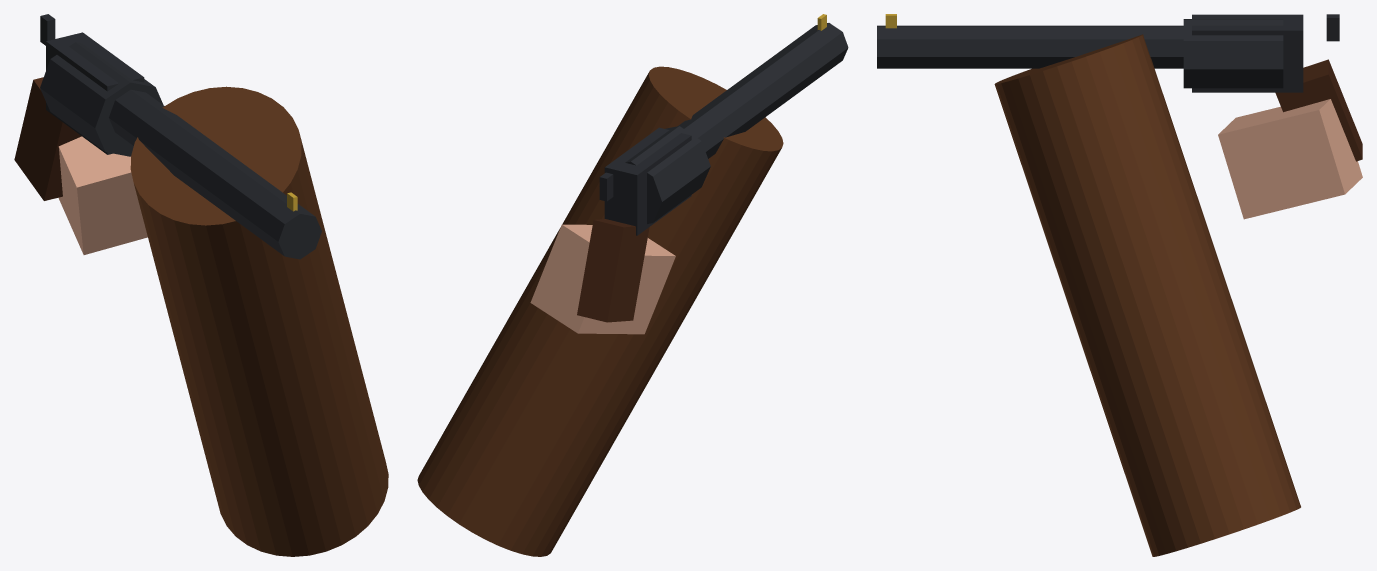
The model's file is fps_revolver.obj.
3 views of the same model, side by side, from view 1: azimuth 30°, elevation 25°; view 2: azimuth 150°, elevation 25°; view 3: azimuth 270°, elevation 25° (orthographic). The views are drawn at different scales.
Visible parts, largest first — view 1: Cylinder, Cylinder.002, Cube, Cylinder.001, Cube.001, Cube.002; view 2: Cylinder, Cylinder.002, Cube, Cube.001, Cylinder.001, Cube.002; view 3: Cylinder, Cube, Cylinder.002, Cylinder.001, Cube.002, Cube.001.
Part boxes in pixels (x1,y1,x2,y2): Cylinder: (130, 86, 388, 556); Cylinder.002: (109, 89, 321, 259); Cube: (58, 136, 147, 254); Cylinder.001: (40, 42, 163, 156); Cube.001: (14, 77, 81, 200); Cube.002: (46, 32, 144, 154); Cylinder: (417, 66, 783, 556); Cylinder.002: (678, 23, 848, 158); Cube: (530, 224, 675, 334); Cube.001: (577, 219, 649, 322); Cylinder.001: (625, 126, 710, 223); Cube.002: (604, 127, 691, 235); Cylinder: (994, 34, 1300, 556); Cube: (1218, 99, 1362, 219); Cylinder.002: (877, 25, 1183, 68); Cylinder.001: (1183, 19, 1283, 88); Cube.002: (1192, 14, 1303, 92); Cube.001: (1275, 59, 1362, 161).
Size of the model in its own units: 0.2301 by 0.3598 by 0.3409.
